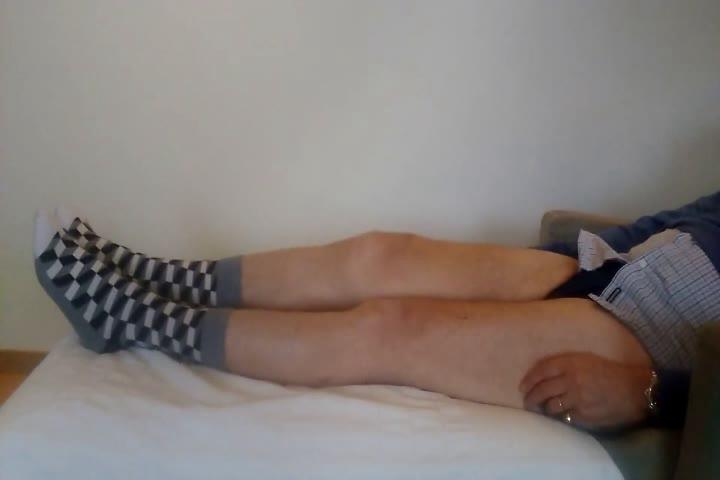lowerbody: (25, 184, 691, 442)
